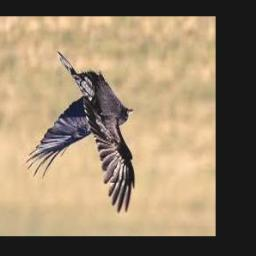Crow: (25, 52, 135, 214)
